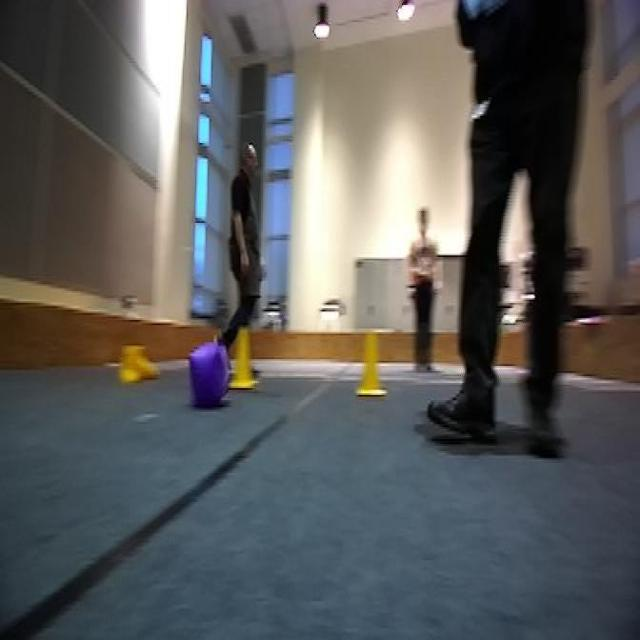frc_cone: (358, 328, 385, 398), (229, 327, 258, 391), (119, 341, 158, 386)
frc_cube: (188, 336, 230, 408)
